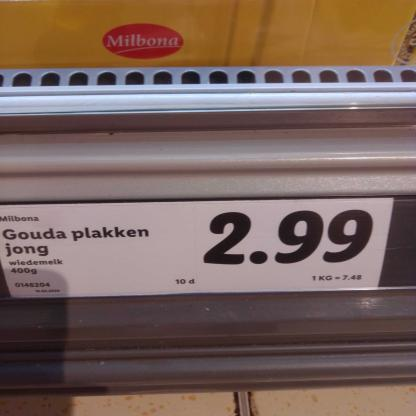prtg: (1, 199, 396, 298)
